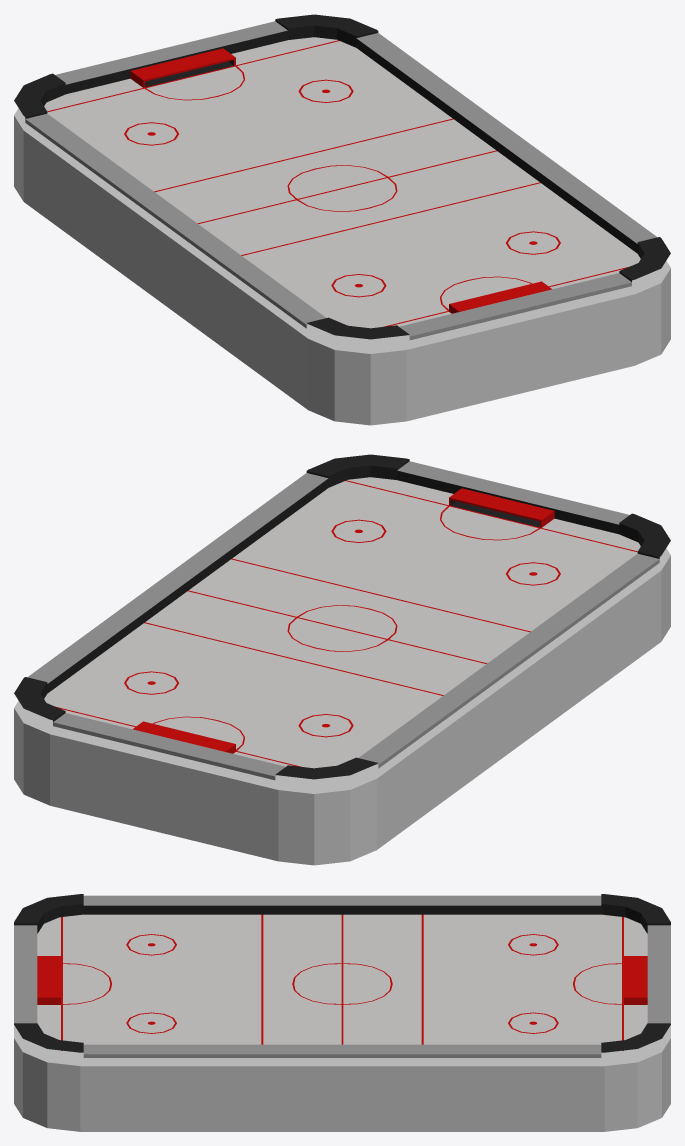
The model's file is tableShort.obj.
3 views of the same model, one above another, from view 1: azimuth 30°, elevation 25°; view 2: azimuth 150°, elevation 25°; view 3: azimuth 270°, elevation 25° (orthographic). The views are drawn at different scales.
Parts seen in each view (by area): view 1: Mesh_TableEdited; view 2: Mesh_TableEdited; view 3: Mesh_TableEdited.
Boxes of the visible parts, left/top/right/bottom form: Mesh_TableEdited: left=14, top=14, right=670, bottom=425; Mesh_TableEdited: left=14, top=454, right=670, bottom=865; Mesh_TableEdited: left=14, top=894, right=670, bottom=1131.
Size of the model in its own units: 26.44 by 6.16 by 46.26.
